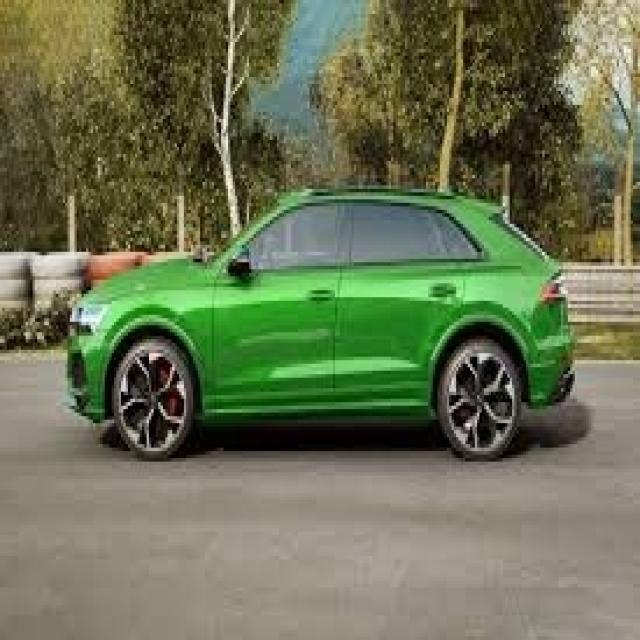green: (64, 157, 579, 472)
